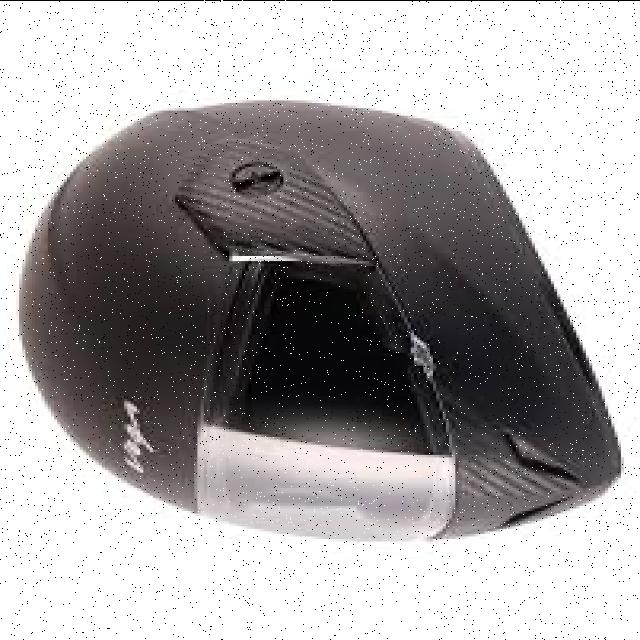Helmet: (7, 109, 625, 558)
